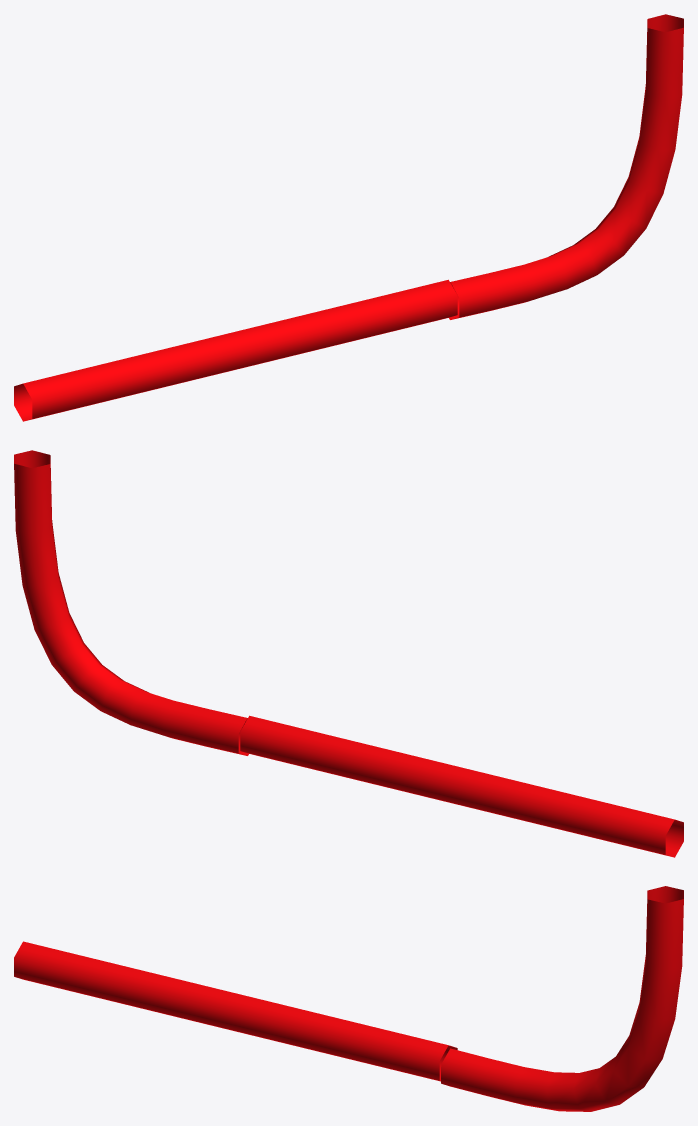
The model's file is CABLES.fbx.
The picture shows the model from 3 angles, top to bottom: view 1: azimuth 30°, elevation 25°; view 2: azimuth 150°, elevation 25°; view 3: azimuth 330°, elevation 25°; orthographic projection.
Parts seen in each view (by area): view 1: BézierCurve.001, BézierCurve; view 2: BézierCurve.001, BézierCurve; view 3: BézierCurve.001, BézierCurve.
Part boxes in pixels (box(x1,y1,x2,y2)): BézierCurve.001: box(14, 279, 457, 421); BézierCurve: box(449, 14, 683, 319); BézierCurve.001: box(240, 715, 683, 857); BézierCurve: box(14, 450, 248, 755); BézierCurve.001: box(14, 941, 457, 1081); BézierCurve: box(441, 886, 683, 1111).
Bounding box in the file's own units: 15.28 × 5.42 × 0.7307.
